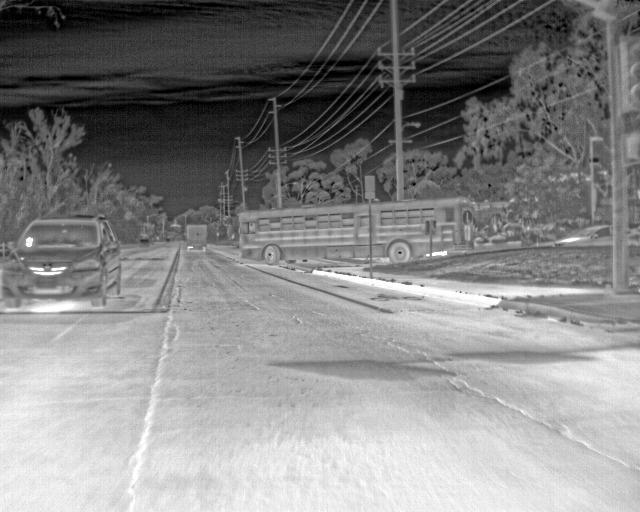car: (0, 214, 124, 309), (553, 223, 612, 247), (136, 234, 150, 248)
